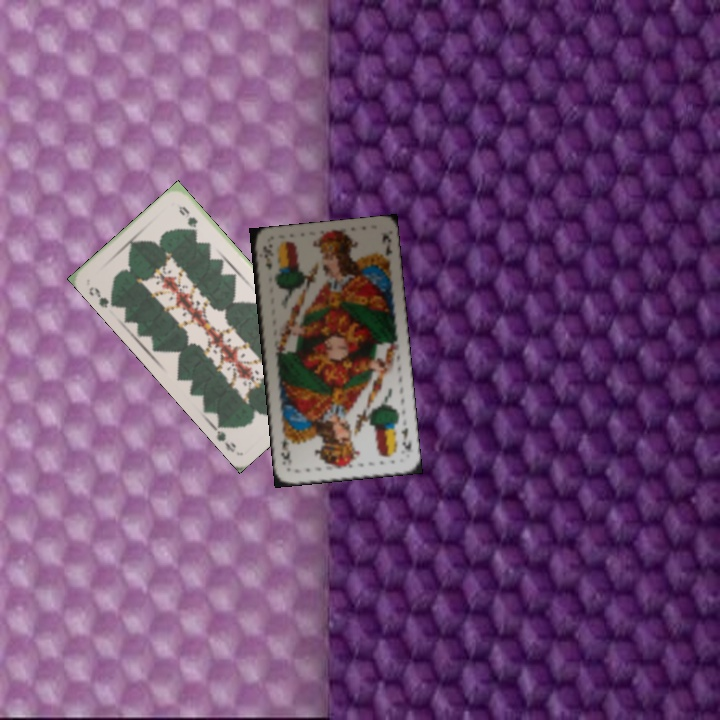EK: (397, 423, 414, 454), (259, 242, 274, 272)
G9: (85, 282, 118, 310)
